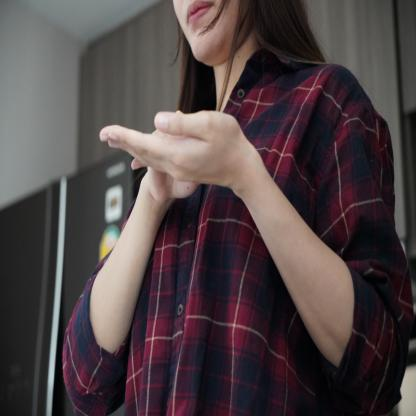Love: (86, 104, 278, 223)
